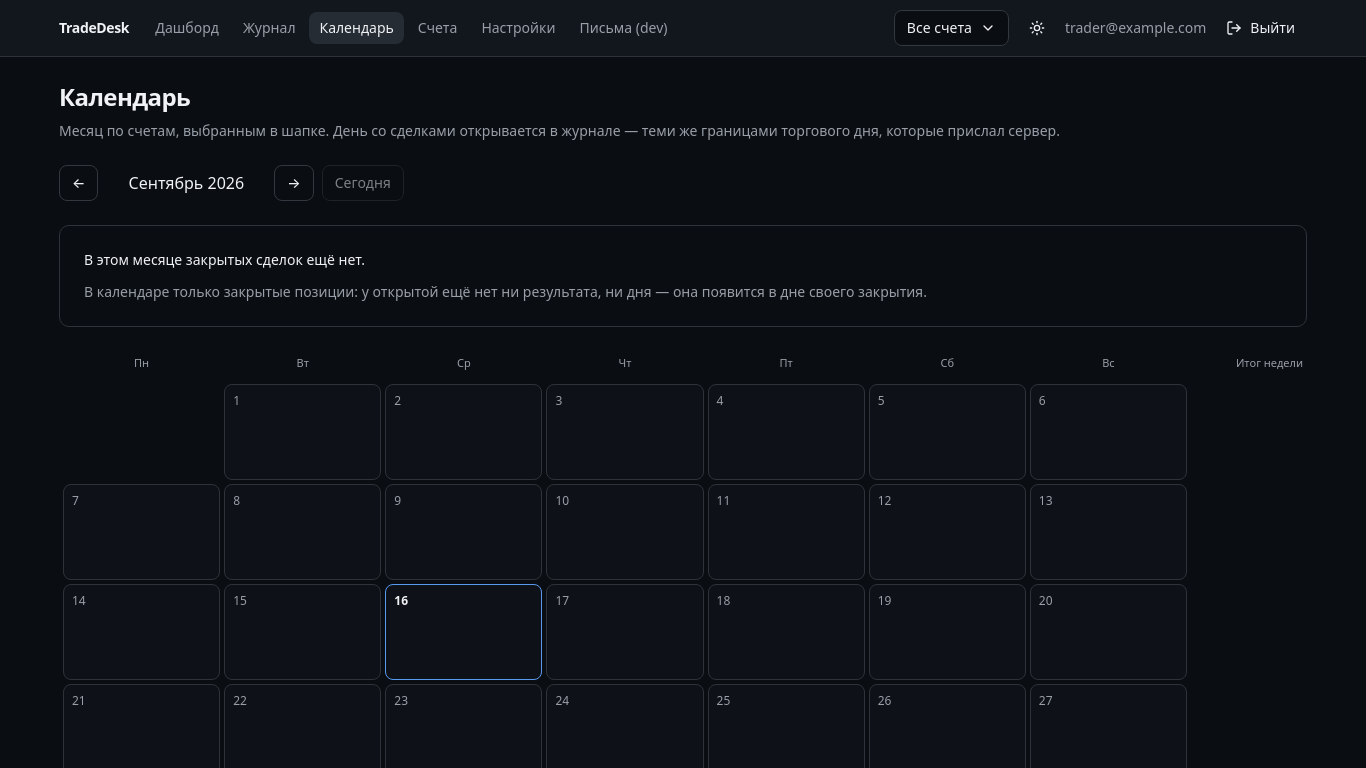
Test: пресеты выбора › при одних демо-счетах «Все реальные» не показывается вовсе
expect the heading "Календарь" is shown: met, box [59,80,190,113]
Click the button with aria-label "Выбрать счета".
click(951, 28)  # box [894,10,1009,46]
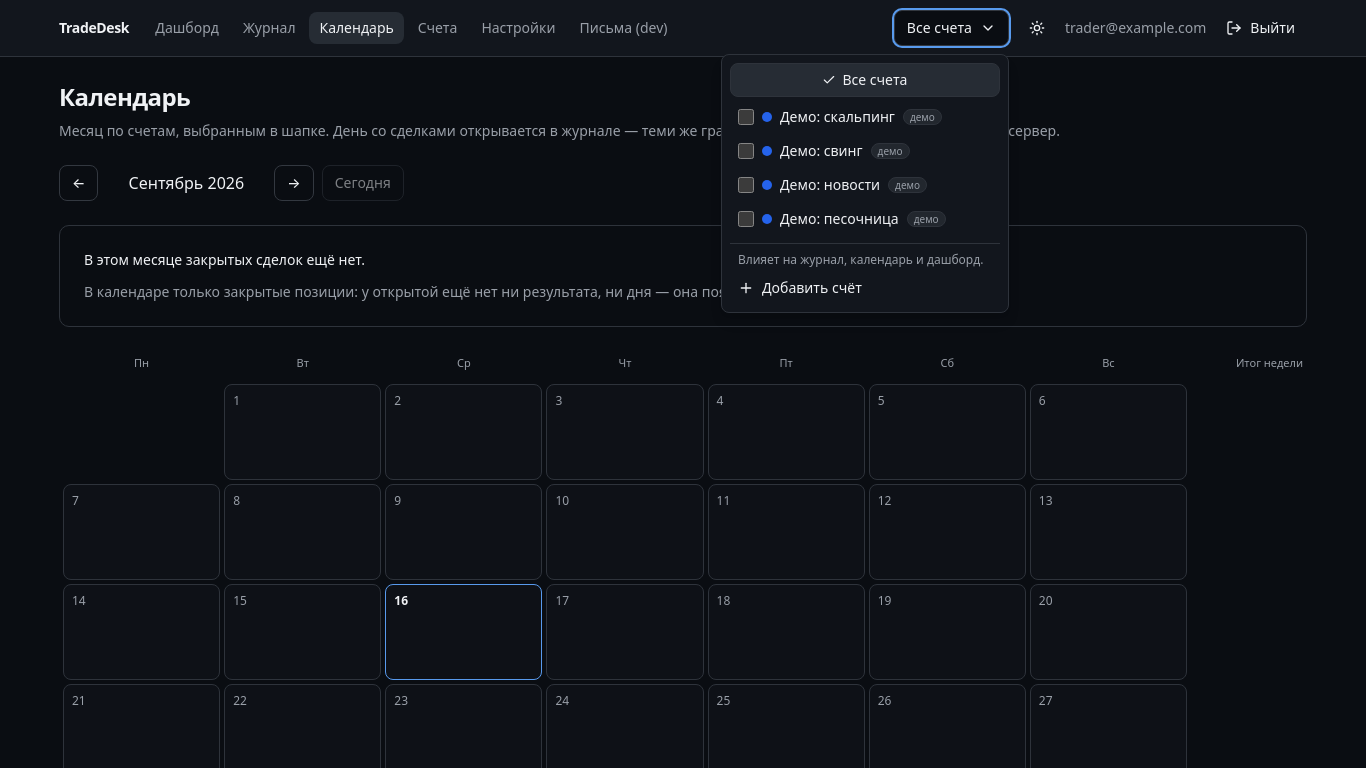
expect the 2nd button "Все счета" is shown: met, box [730,63,1000,97]
